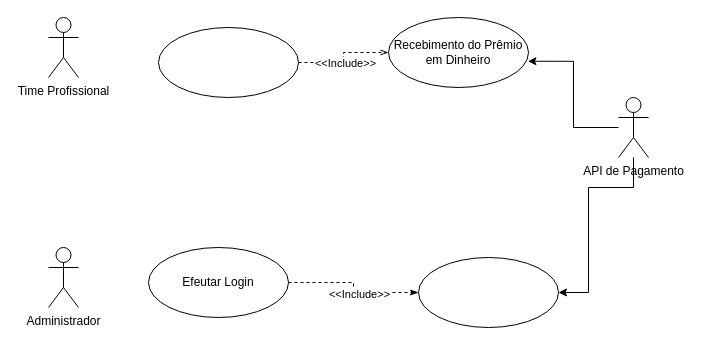
This 701x346 diagram has some shape labels left out. Here are the shapes that lost their labels. From the top down, the centre of each, then its label:
At pixel 228 62: "Efetuarl Login".
At pixel 488 292: "Transação do Prêmio em Dinheiro".
